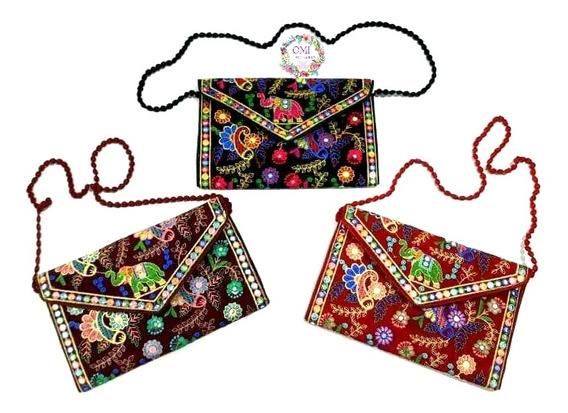cartera: (303, 113, 546, 393), (19, 136, 272, 394), (135, 18, 437, 192)
